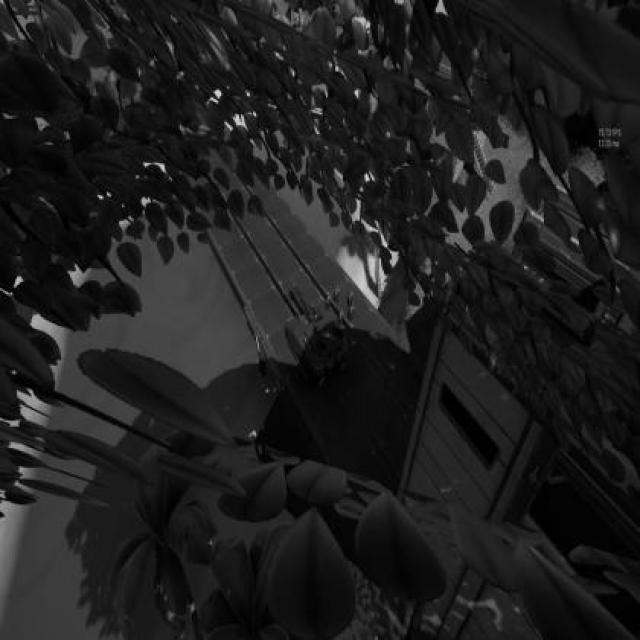tank: (283, 280, 349, 386)
